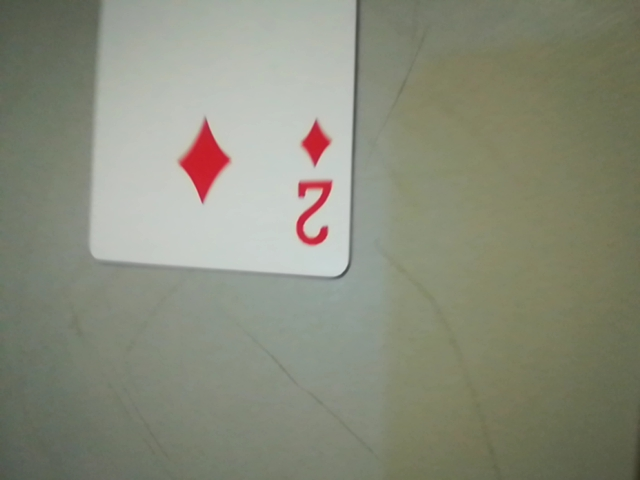fk 2: (283, 107, 349, 268)
